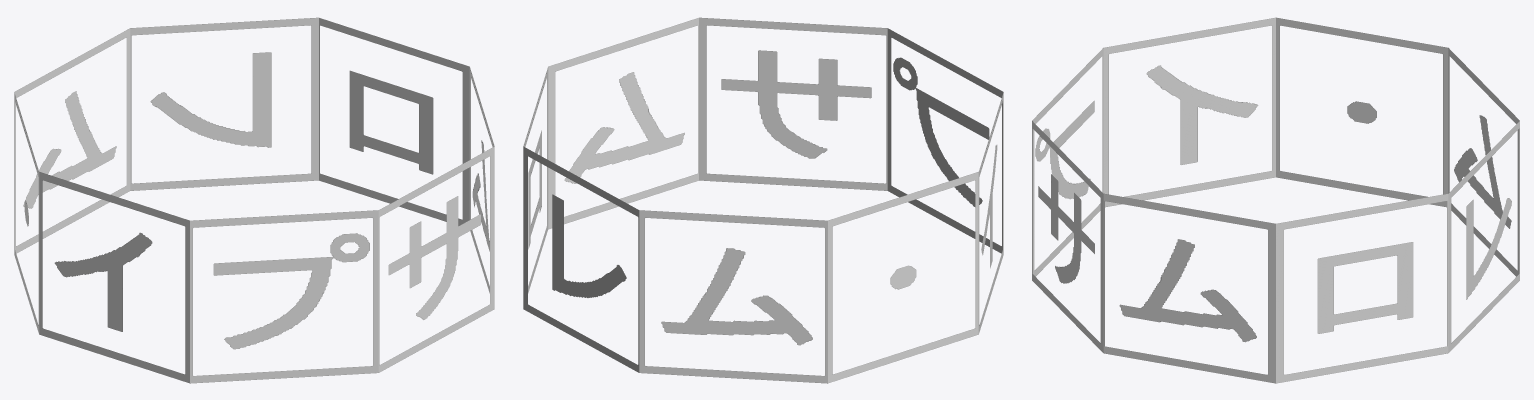
The model's file is Ring.fbx.
3 renders of one model, left to right at view 1: azimuth 30°, elevation 25°; view 2: azimuth 150°, elevation 25°; view 3: azimuth 270°, elevation 25°, orthographic.
Parts seen in each view (by area): view 1: Cylinder; view 2: Cylinder; view 3: Cylinder.
Part boxes in pixels (box(x1,y1,x2,y2)): Cylinder: box(14, 17, 494, 383); Cylinder: box(523, 17, 1003, 383); Cylinder: box(1032, 17, 1519, 383).
Bounding box in the file's own units: 200 × 75 × 200.
